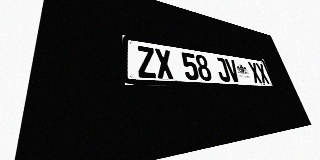5: (181, 52, 200, 80)
8: (194, 54, 213, 81)
J: (214, 57, 231, 82)
V: (224, 58, 241, 82)
X: (154, 48, 174, 79), (247, 62, 263, 83), (255, 63, 270, 84)
Z: (136, 45, 157, 78)
